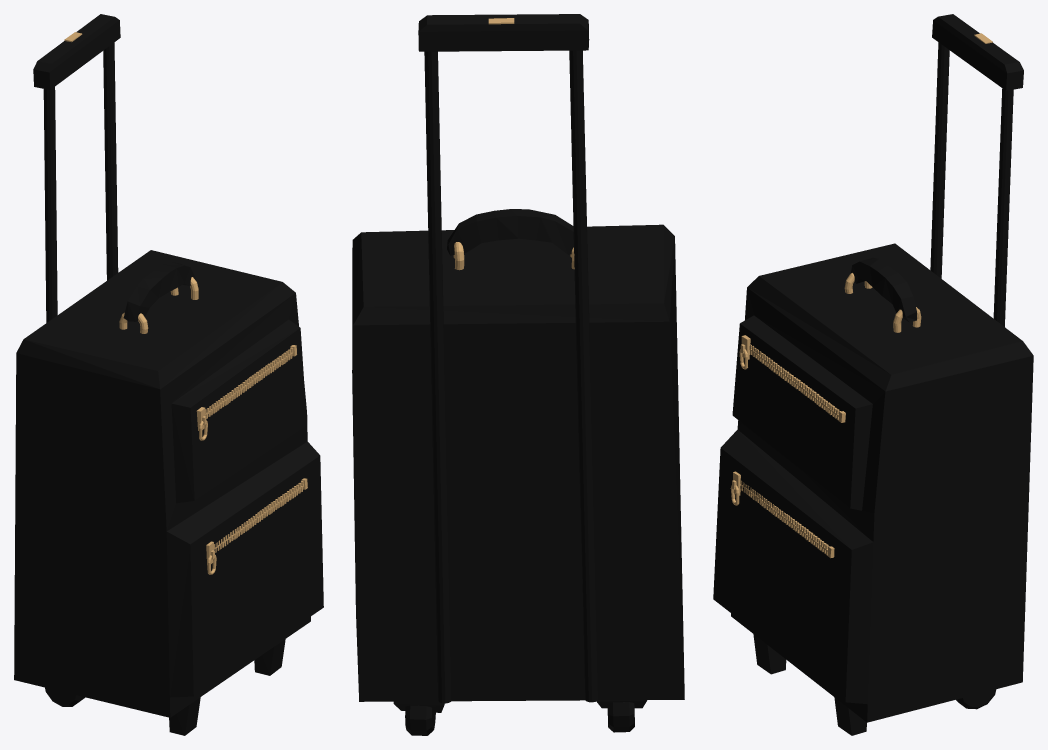
3 views of the same model, side by side, from view 1: azimuth 30°, elevation 25°; view 2: azimuth 150°, elevation 25°; view 3: azimuth 270°, elevation 25° (orthographic). The views are drawn at different scales.
Visible parts, largest first — view 1: node_MeshObject-2090158144-PolyPaper23; view 2: node_MeshObject-2090158144-PolyPaper23; view 3: node_MeshObject-2090158144-PolyPaper23.
Boxes of the visible parts, box(x1,y1,x2,y2) form: node_MeshObject-2090158144-PolyPaper23: box(14, 14, 323, 735); node_MeshObject-2090158144-PolyPaper23: box(352, 14, 684, 735); node_MeshObject-2090158144-PolyPaper23: box(713, 14, 1033, 735).
Bounding box in the file's own units: 1.47 × 3.02 × 1.39.
